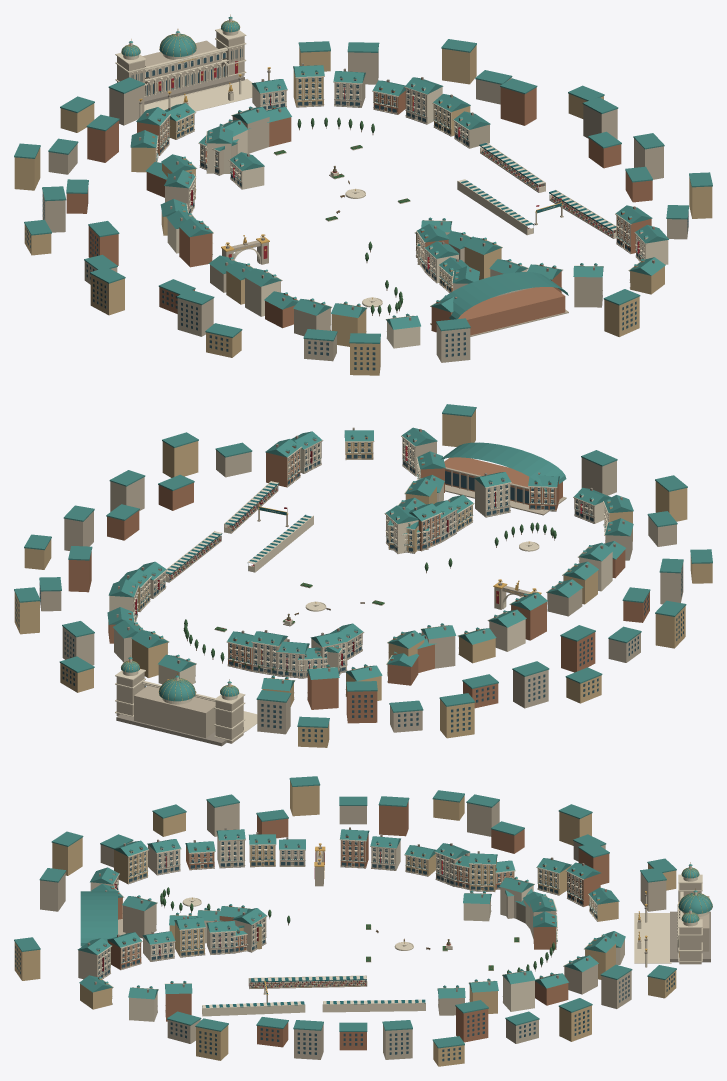
The model's file is stadium-world.glb.
3 views of the same model, one above another, from view 1: azimuth 30°, elevation 25°; view 2: azimuth 150°, elevation 25°; view 3: azimuth 270°, elevation 25° (orthographic). The views are drawn at different scales.
Parts seen in each view (by area): view 1: Architecture / Oxidised copper roof, Architecture / Warm limestone, Architecture / Carved ivory stone, Architecture / Ochre render limestone, Architecture / Terracotta render, Architecture / Recessed blue glass, Architecture / Sandstone shadow, Architecture / Striped canopy cloth, Architecture / Ivory enamel, Architecture / Brushed champagne brass; view 2: Architecture / Oxidised copper roof, Architecture / Warm limestone, Architecture / Ochre render limestone, Architecture / Carved ivory stone, Architecture / Terracotta render, Architecture / Recessed blue glass, Architecture / Sandstone shadow, Architecture / Striped canopy cloth, Architecture / Ivory enamel, Architecture / Brushed champagne brass, Architecture / Cypress foliage; view 3: Architecture / Oxidised copper roof, Architecture / Carved ivory stone, Architecture / Warm limestone, Architecture / Ochre render limestone, Architecture / Terracotta render, Architecture / Recessed blue glass, Architecture / Sandstone shadow, Architecture / Striped canopy cloth, Architecture / Ivory enamel, Architecture / Brushed champagne brass, Architecture / Oiled stadium wood.
Part boxes in pixels (bbox=[...]): Architecture / Oxidised copper roof: bbox=[14, 16, 712, 343]; Architecture / Warm limestone: bbox=[42, 32, 688, 362]; Architecture / Carved ivory stone: bbox=[115, 18, 668, 348]; Architecture / Ochre render limestone: bbox=[14, 45, 712, 375]; Architecture / Terracotta render: bbox=[66, 87, 652, 335]; Architecture / Recessed blue glass: bbox=[25, 49, 688, 370]; Architecture / Sandstone shadow: bbox=[133, 47, 654, 331]; Architecture / Striped canopy cloth: bbox=[156, 98, 644, 286]; Architecture / Ivory enamel: bbox=[156, 98, 644, 285]; Architecture / Brushed champagne brass: bbox=[121, 14, 639, 299]; Architecture / Oxidised copper roof: bbox=[14, 404, 712, 727]; Architecture / Warm limestone: bbox=[39, 435, 683, 743]; Architecture / Ochre render limestone: bbox=[14, 409, 712, 747]; Architecture / Carved ivory stone: bbox=[109, 435, 612, 741]; Architecture / Terracotta render: bbox=[68, 446, 649, 723]; Architecture / Recessed blue glass: bbox=[15, 435, 683, 742]; Architecture / Sandstone shadow: bbox=[116, 427, 624, 746]; Architecture / Striped canopy cloth: bbox=[135, 452, 605, 670]; Architecture / Ivory enamel: bbox=[134, 452, 605, 670]; Architecture / Brushed champagne brass: bbox=[121, 449, 581, 700]; Architecture / Cypress foliage: bbox=[183, 522, 556, 672]; Architecture / Oxidised copper roof: bbox=[14, 776, 712, 1048]; Architecture / Carved ivory stone: bbox=[90, 835, 709, 1021]; Architecture / Warm limestone: bbox=[40, 801, 709, 1059]; Architecture / Ochre render limestone: bbox=[14, 781, 676, 1066]; Architecture / Terracotta render: bbox=[107, 801, 609, 1050]; Architecture / Recessed blue glass: bbox=[15, 836, 674, 1061]; Architecture / Sandstone shadow: bbox=[87, 827, 710, 1012]; Architecture / Striped canopy cloth: bbox=[98, 859, 596, 1007]; Architecture / Ivory enamel: bbox=[98, 859, 596, 1008]; Architecture / Brushed champagne brass: bbox=[192, 843, 712, 994]; Architecture / Oiled stadium wood: bbox=[104, 862, 575, 987].
Bounding box in the file's own units: 362 × 35 × 410.
